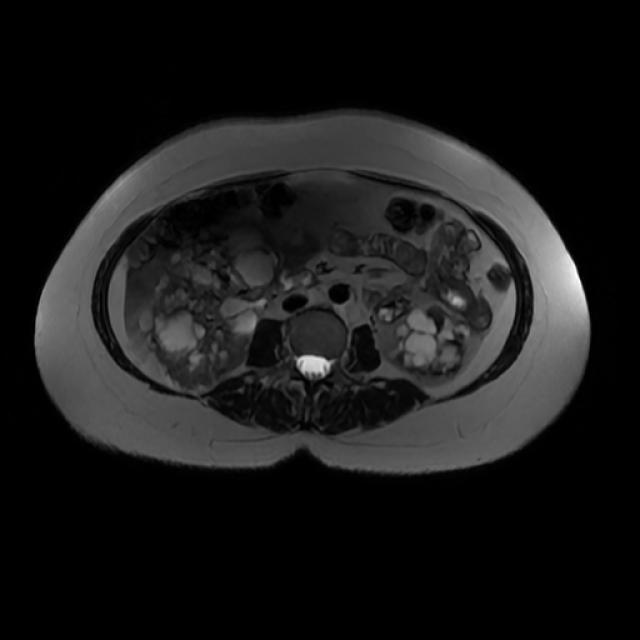sag: (149, 230, 272, 389)
sol: (393, 305, 471, 374)
